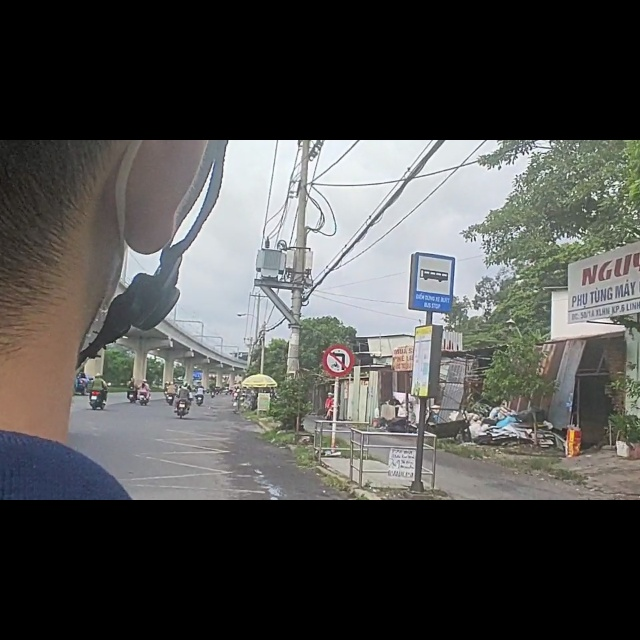bien_cam: (411, 199, 455, 309), (323, 364, 356, 422)
